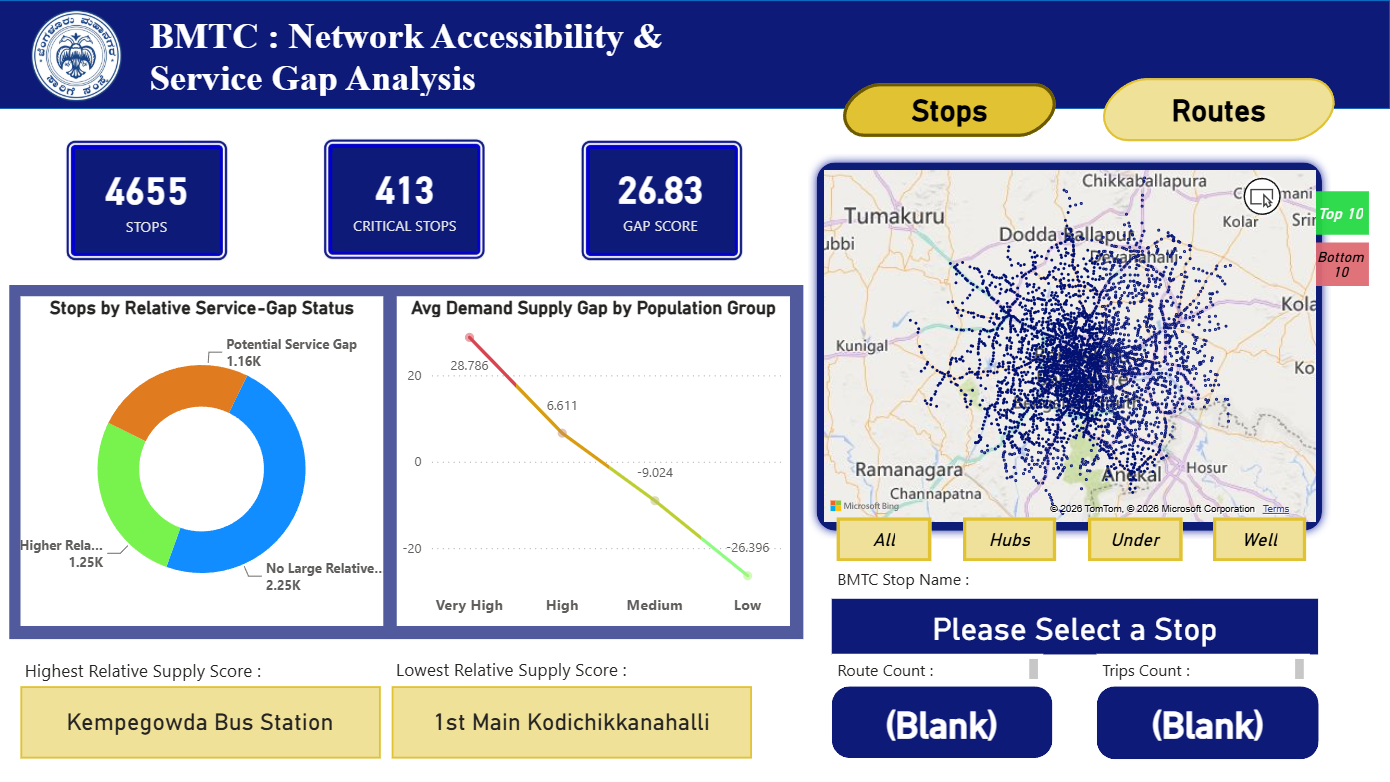

The dashboard page shown, as its layout file describes it:
{"tool":"powerbi","page":{"name":"Stops Dashboard","canvas":[1280,720],"ordinal":0},"visuals":[{"type":"shape","title":"bg Shape","box":[0,0,1280,720],"z":0},{"type":"image","box":[286.1,127.9,174.9,111.3],"z":0,"group":"g4"},{"type":"image","box":[49.6,128.2,174.9,111.3],"z":0,"group":"g3"},{"type":"image","box":[522.5,128.2,174.9,111.3],"z":0,"group":"g5"},{"type":"shape","box":[766.5,630.9,203,66],"z":0,"group":"g1"},{"type":"shape","box":[1009.9,630.9,204.2,67.3],"z":0,"group":"g2"},{"type":"card","fields":{"Values":["Key Measure.Average Gap Magnitude"]},"box":[537.5,131.9,143.1,97.8],"z":1000,"group":"g5"},{"type":"card","fields":{"Values":["Key Measure.Critical Stops Count"]},"box":[303.5,132.8,141.8,97.8],"z":1000,"group":"g4"},{"type":"card","fields":{"Values":["Key Measure.Total Stops"]},"box":[67.9,133.1,138.2,97.8],"z":1000,"group":"g3"},{"type":"shape","title":"Map bg","box":[744.8,141.8,480.6,354.6],"z":1000},{"type":"card","fields":{"Values":["Key Measure.Stop Route Count"]},"box":[776.2,634.4,184.1,58.5],"z":1000,"group":"g1"},{"type":"card","fields":{"Values":["Key Measure.Stop Trips Count"]},"box":[1021.1,639.6,181.6,47.3],"z":1000,"group":"g2"},{"type":"shape","title":"Header","box":[0,0,1280.3,100.3],"z":2000},{"type":"image","title":"Logo","box":[23.8,8.8,96.2,83.8],"z":3000},{"type":"shape","title":"Chart bg Shape","box":[10.2,262.5,730.2,325.9],"z":4000},{"type":"textbox","title":"BMTC : Network Accessibility & Service Gap Analysis","box":[134.3,13.7,568.5,74.6],"z":5000},{"type":"donutChart","title":"Stops by Relative Service-Gap Status","fields":{"Category":["stops_for_powerbi.status"],"Y":["CountNonNull(stops_for_powerbi.stop_id)"]},"box":[20.1,272.4,333.4,303.5],"z":6000},{"type":"lineChart","title":"Avg Demand Supply Gap by Population Group","fields":{"Category":["stops_for_powerbi.population_catchment_group"],"Y":["Key Measure.Avg Gap Score"]},"box":[367.2,272.4,362,303.5],"z":7000},{"type":"card","title":"Stop Name Card","fields":{"Values":["Key Measure.Selected Stop Name"]},"box":[766.5,550.2,447.6,51.4],"z":8000},{"type":"card","title":"High SS Card","fields":{"Values":["Min(stops_for_powerbi.name)"]},"box":[20.8,631,331.4,66],"z":9000},{"type":"card","title":"Low SS Card","fields":{"Values":["Min(stops_for_powerbi.name)"]},"box":[362,631,331.4,66],"z":10000},{"type":"actionButton","title":"Stops Button","box":[766.7,72.1,216.4,57.5],"z":11000},{"type":"actionButton","title":"Routes Page Button","box":[1005.2,67.3,236,66],"z":12000},{"type":"textbox","title":"High SS Text box","box":[19.9,599.6,328.4,39.8],"z":13000},{"type":"textbox","title":"Low SS Text Box","box":[360.7,599.3,328.4,39.8],"z":14000},{"type":"group","id":"g1","title":"Route Count Group","box":[766.5,630.9,203,66],"z":14500},{"type":"group","id":"g2","title":"Trip Count Group","box":[1009.9,630.9,204.2,67.3],"z":15000},{"type":"textbox","title":"Stop Name Text box","box":[766.5,517.2,328.9,33],"z":16000},{"type":"textbox","title":"Route Text box","box":[766.5,601.6,194.4,29.3],"z":17000},{"type":"textbox","title":"Trip Text box","box":[1009.8,601.6,195.7,29.3],"z":18000},{"type":"actionButton","title":"Top 10 Button","box":[1208.2,176.1,52.6,40.4],"z":19000},{"type":"actionButton","title":"Bottom 10 Button","box":[1208.2,222.6,52.6,40.4],"z":20000},{"type":"map","title":"All map","fields":{"X":["stops_for_powerbi.lon"],"Y":["stops_for_powerbi.lat"]},"box":[755.2,152.2,462.2,332.8],"z":26000},{"type":"actionButton","title":"Hubs Button","box":[887.4,475.7,85.6,40.4],"z":27000},{"type":"actionButton","title":"Well Button","box":[1117.7,475.7,85.6,40.4],"z":28000},{"type":"actionButton","title":"All Button","box":[771.6,475.7,86.8,40.4],"z":29000},{"type":"actionButton","title":"Under Button","box":[1001.9,475.7,86.8,40.4],"z":30000},{"type":"group","id":"g3","title":"Stops Card","box":[49.6,128.2,174.9,111.3],"z":31000},{"type":"group","id":"g4","title":"Critical Stops Card","box":[286.1,127.9,174.9,111.3],"z":32000},{"type":"group","id":"g5","title":"Gap Score Card","box":[522.5,128.2,174.9,111.3],"z":33000}]}

Visuals, with their boxes in screenshot pixels (x1, y1, x2, y2), scaled from the page's 1280x720 canvas onto the 1390x782 screenshot:
"bg Shape" shape: box=[0, 0, 1389, 781]
image: box=[311, 139, 501, 260]
image: box=[54, 139, 244, 260]
image: box=[567, 139, 757, 260]
shape: box=[832, 685, 1053, 757]
shape: box=[1097, 685, 1318, 758]
card - Key Measure.Average Gap Magnitude: box=[584, 143, 739, 249]
card - Key Measure.Critical Stops Count: box=[330, 144, 484, 250]
card - Key Measure.Total Stops: box=[74, 145, 224, 251]
"Map bg" shape: box=[809, 154, 1331, 539]
card - Key Measure.Stop Route Count: box=[843, 689, 1043, 753]
card - Key Measure.Stop Trips Count: box=[1109, 695, 1306, 746]
"Header" shape: box=[0, 0, 1389, 109]
"Logo" image: box=[26, 10, 130, 101]
"Chart bg Shape" shape: box=[11, 285, 804, 639]
"BMTC : Network Accessibility & Service Gap Analysis" textbox: box=[146, 15, 763, 96]
"Stops by Relative Service-Gap Status" donutChart: box=[22, 296, 384, 625]
"Avg Demand Supply Gap by Population Group" lineChart: box=[399, 296, 792, 625]
"Stop Name Card" card: box=[832, 598, 1318, 653]
"High SS Card" card: box=[23, 685, 382, 757]
"Low SS Card" card: box=[393, 685, 753, 757]
"Stops Button" actionButton: box=[833, 78, 1068, 141]
"Routes Page Button" actionButton: box=[1092, 73, 1348, 145]
"High SS Text box" textbox: box=[22, 651, 378, 694]
"Low SS Text Box" textbox: box=[392, 651, 748, 694]
"Route Count Group" group: box=[832, 685, 1053, 757]
"Trip Count Group" group: box=[1097, 685, 1318, 758]
"Stop Name Text box" textbox: box=[832, 562, 1190, 598]
"Route Text box" textbox: box=[832, 653, 1043, 685]
"Trip Text box" textbox: box=[1097, 653, 1309, 685]
"Top 10 Button" actionButton: box=[1312, 191, 1369, 235]
"Bottom 10 Button" actionButton: box=[1312, 242, 1369, 286]
"All map" map: box=[820, 165, 1322, 527]
"Hubs Button" actionButton: box=[964, 517, 1057, 561]
"Well Button" actionButton: box=[1214, 517, 1307, 561]
"All Button" actionButton: box=[838, 517, 932, 561]
"Under Button" actionButton: box=[1088, 517, 1182, 561]
"Stops Card" group: box=[54, 139, 244, 260]
"Critical Stops Card" group: box=[311, 139, 501, 260]
"Gap Score Card" group: box=[567, 139, 757, 260]
